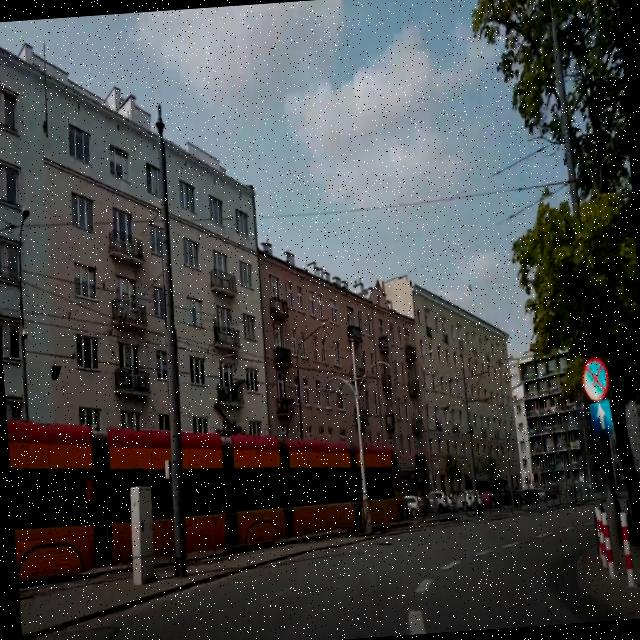Zakaz zatrzymywania sie: (579, 355, 610, 399)
